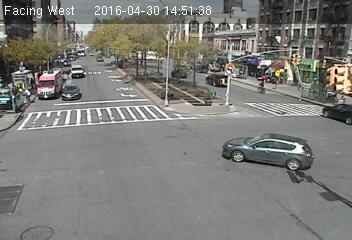neg: (87, 63, 125, 114), (149, 168, 180, 210), (243, 184, 273, 225), (220, 90, 247, 126), (217, 143, 242, 176), (312, 66, 337, 99), (21, 179, 46, 212), (140, 95, 164, 127), (44, 133, 68, 165), (276, 51, 300, 83), (80, 166, 103, 197), (235, 41, 258, 72), (200, 71, 222, 101), (300, 186, 322, 214), (36, 74, 57, 102), (140, 48, 161, 76), (289, 141, 308, 166), (54, 32, 71, 54), (100, 29, 112, 46), (197, 39, 208, 54)
